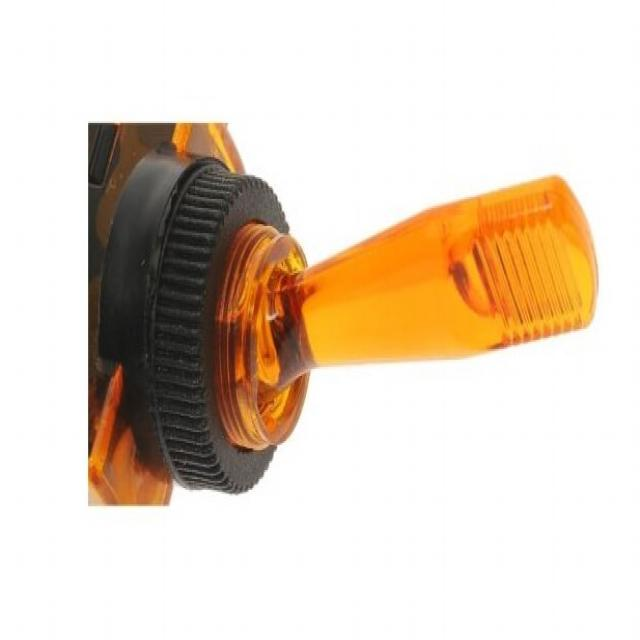toggle switch: (152, 155, 601, 495)
